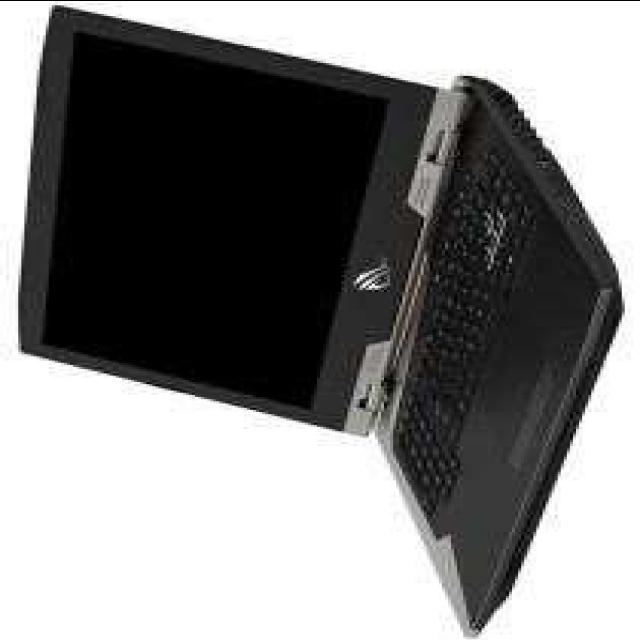laptop: (42, 0, 619, 640)
